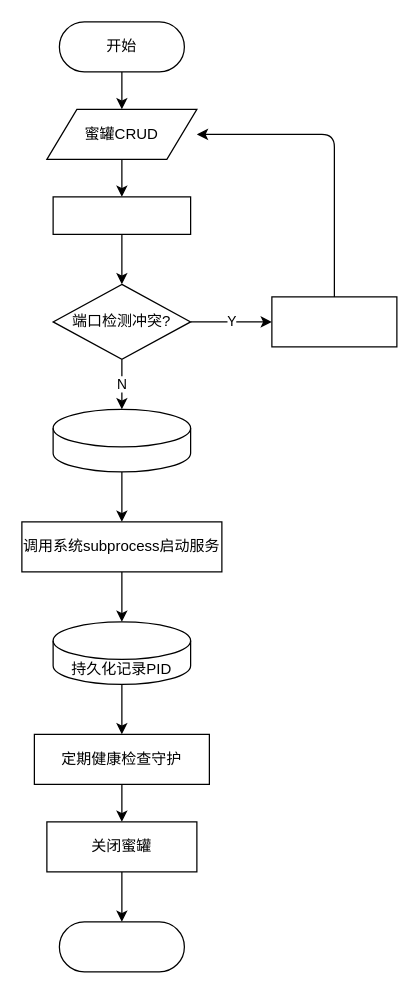
Some shapes in this 419 by 994 pixel diagram are drawn without their labels. Each missing label, with the box of its shape:
写入配置至数据库: (52, 408, 191, 472)
启动蜜罐: (52, 196, 191, 234)
提示端口占用: (271, 296, 397, 347)
结束: (58, 921, 184, 972)
